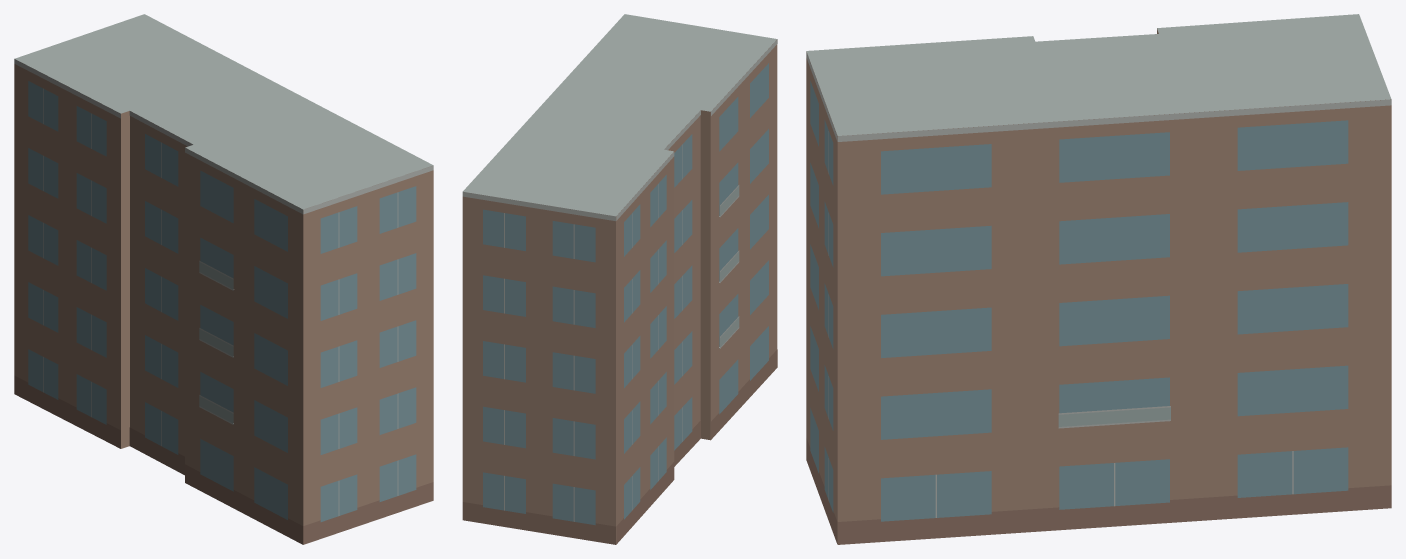
Rendered from survey-upis-32612615.glb.
The picture shows the model from 3 angles, left to right: view 1: azimuth 30°, elevation 25°; view 2: azimuth 150°, elevation 25°; view 3: azimuth 270°, elevation 25°; orthographic projection. The views are drawn at different scales.
Parts seen in each view (by area): view 1: survey-upis-32612615.tmp; view 2: survey-upis-32612615.tmp; view 3: survey-upis-32612615.tmp.
Boxes of the visible parts, bbox=[...] form: survey-upis-32612615.tmp: bbox=[14, 14, 433, 544]; survey-upis-32612615.tmp: bbox=[462, 14, 777, 544]; survey-upis-32612615.tmp: bbox=[806, 14, 1391, 544].
Bounding box in the file's own units: 10.58 × 16.5 × 21.42.
